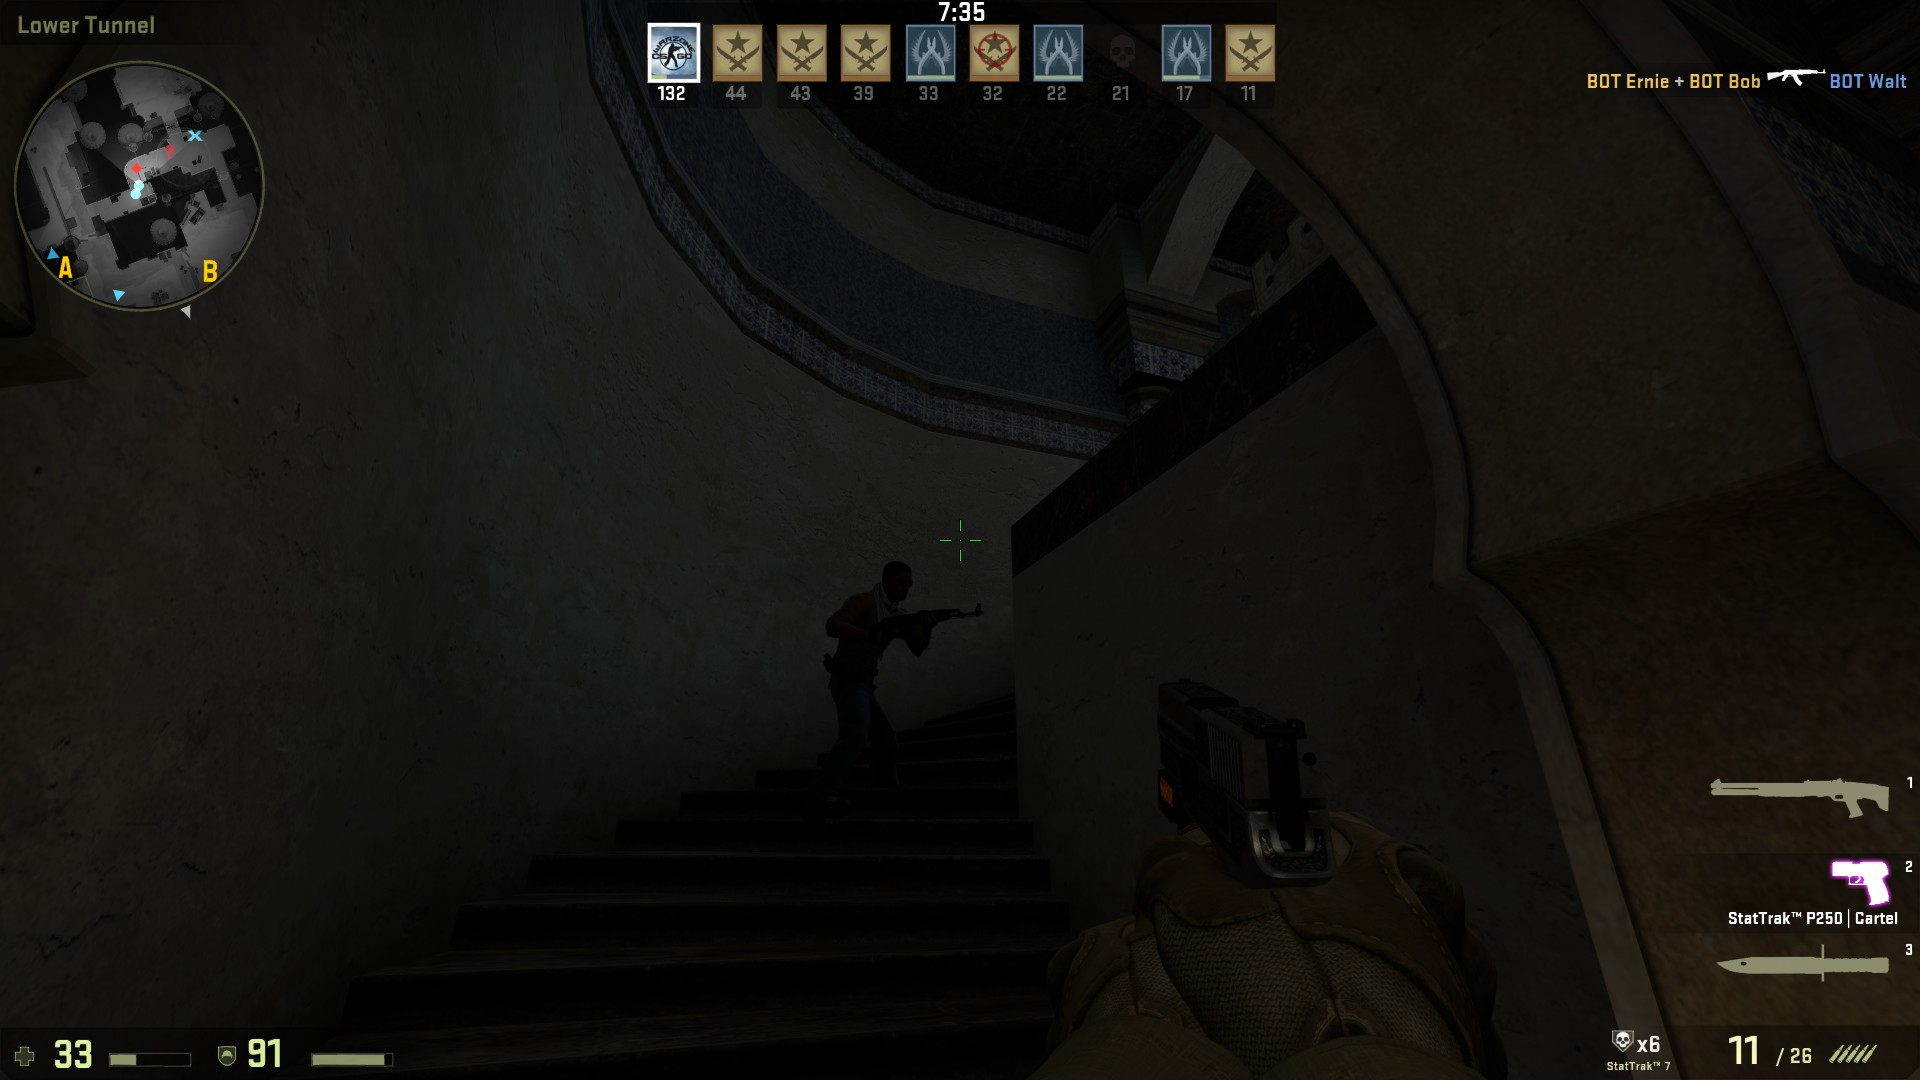t: (822, 550, 916, 808), (870, 553, 914, 616)
